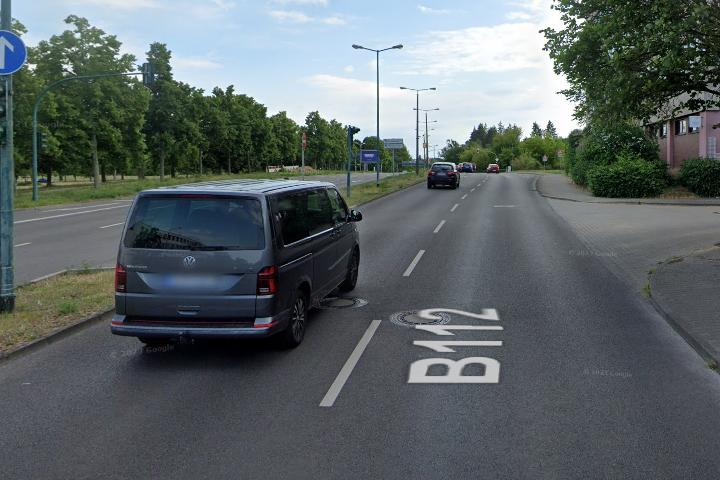vehicle: (109, 174, 365, 351), (425, 161, 462, 191)
